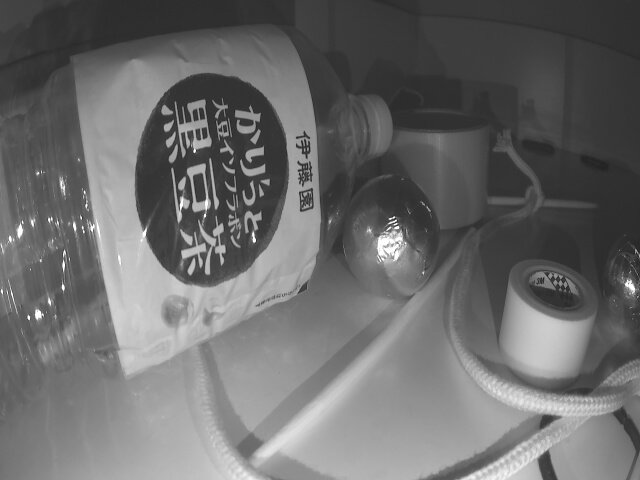Live: (347, 172, 438, 294), (607, 226, 640, 331)
